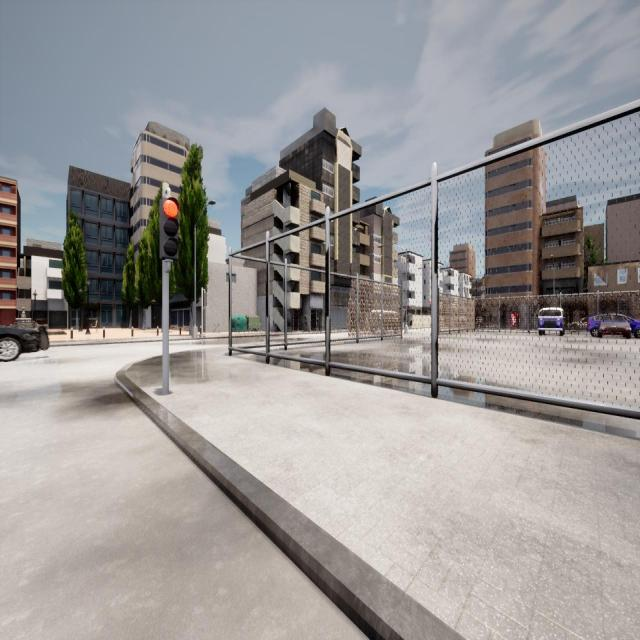Pedestrian: (304, 312, 308, 330)
Vehicle: (0, 326, 47, 360), (588, 314, 640, 338), (538, 307, 564, 335)
traffic_light: (160, 197, 179, 257), (203, 292, 207, 306)
